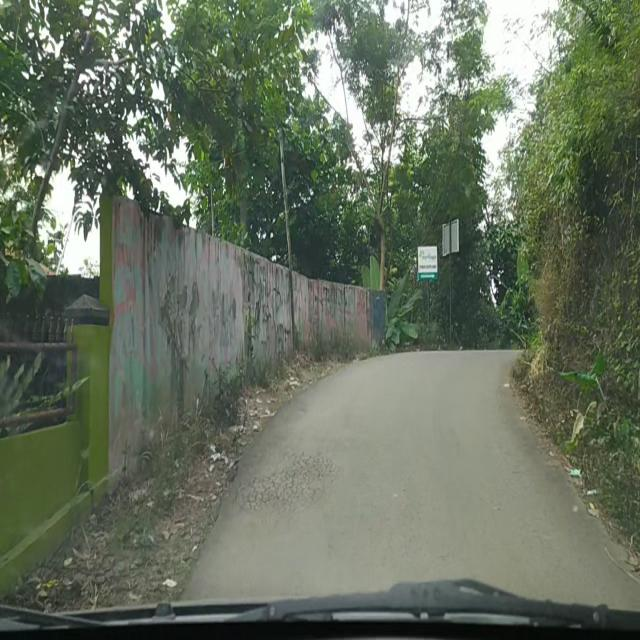Drain Hole: (223, 448, 335, 516)
